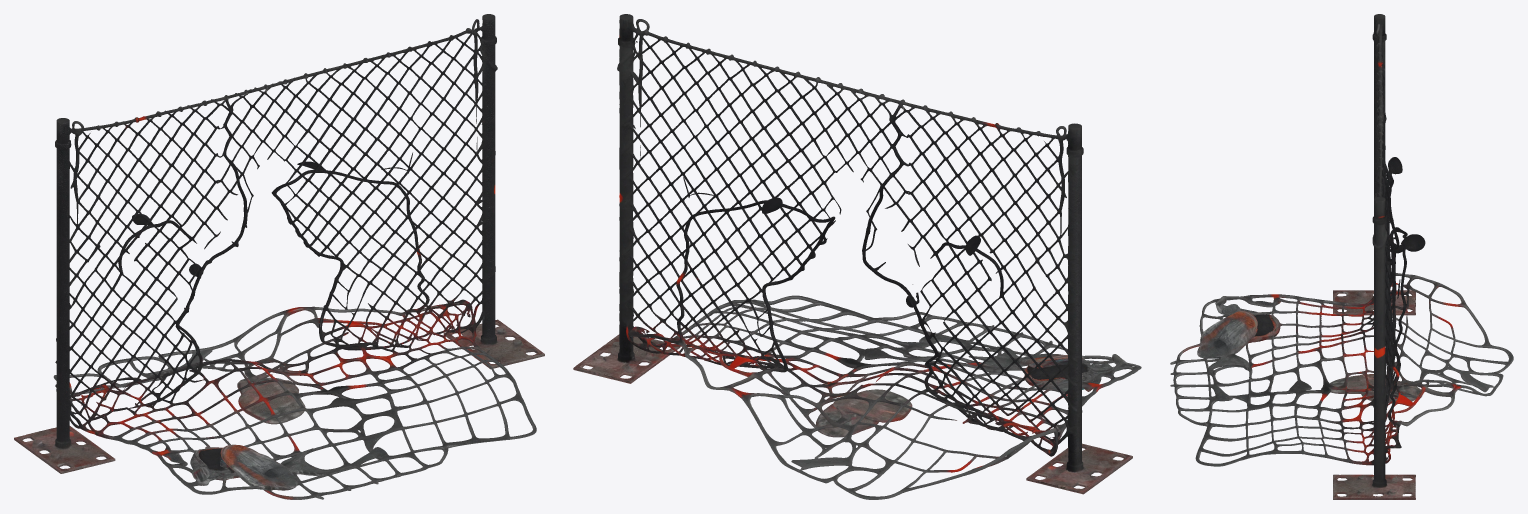
Rendered from broken_chain_link.glb.
3 renders of one model, left to right at view 1: azimuth 30°, elevation 25°; view 2: azimuth 150°, elevation 25°; view 3: azimuth 270°, elevation 25°, orthographic. The views are drawn at different scales.
Bounding box in the file's own units: 1.9 × 1.24 × 1.33.
1 material, 1 textured.
